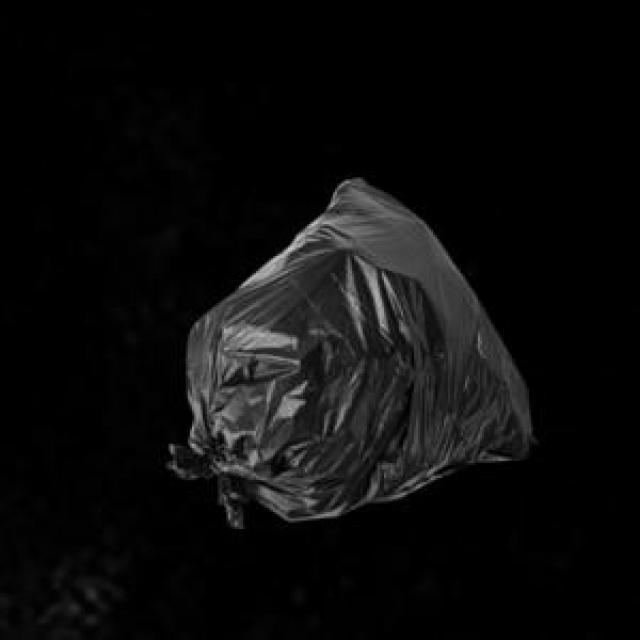miscellaneous trash: (164, 175, 533, 523)
